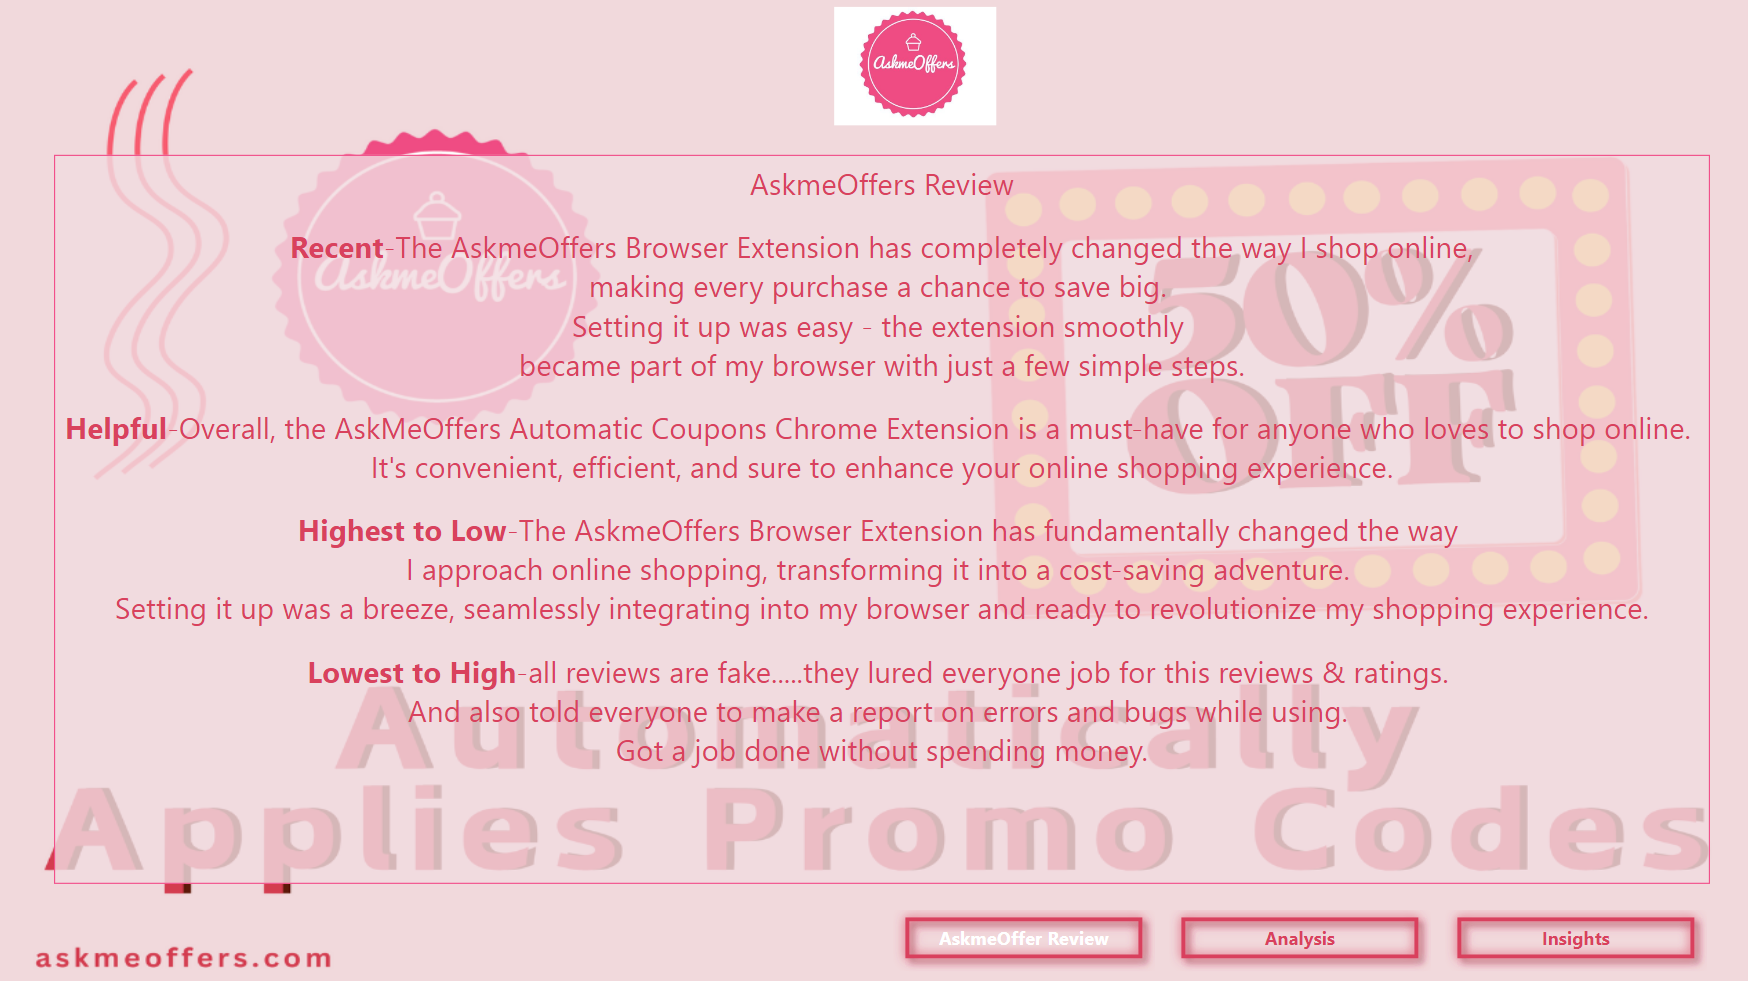

What the dashboard file says about the page in this screenshot:
{"tool":"powerbi","page":{"name":"AskmeOffer Review","canvas":[1280,720],"ordinal":0},"visuals":[{"type":"textbox","box":[48,112,1200,528],"z":0},{"type":"pageNavigator","box":[656,656,592,48],"z":1},{"type":"image","box":[576,0,192,96],"z":2}]}

Visuals, with their boxes in screenshot pixels (x1, y1, x2, y2), scaled from the page's 1280x720 canvas onto the 1748x981 screenshot:
textbox: x1=66, y1=153, x2=1704, y2=872
pageNavigator: x1=896, y1=894, x2=1704, y2=959
image: x1=787, y1=0, x2=1049, y2=131
